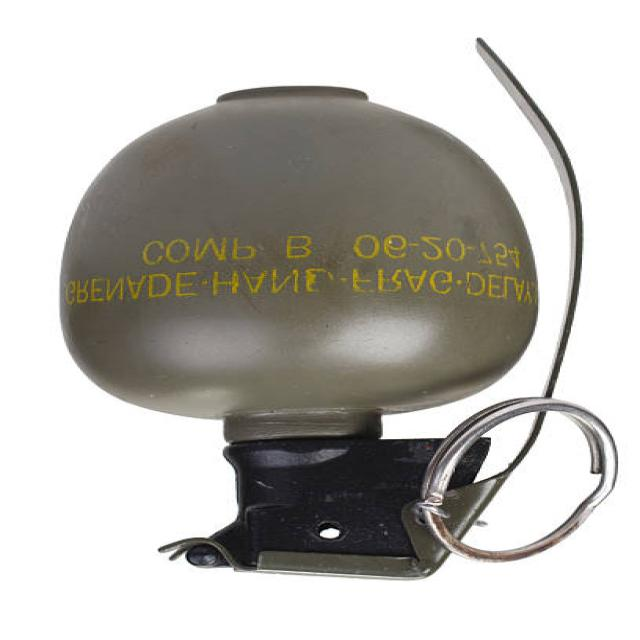grenade: (41, 24, 631, 589)
